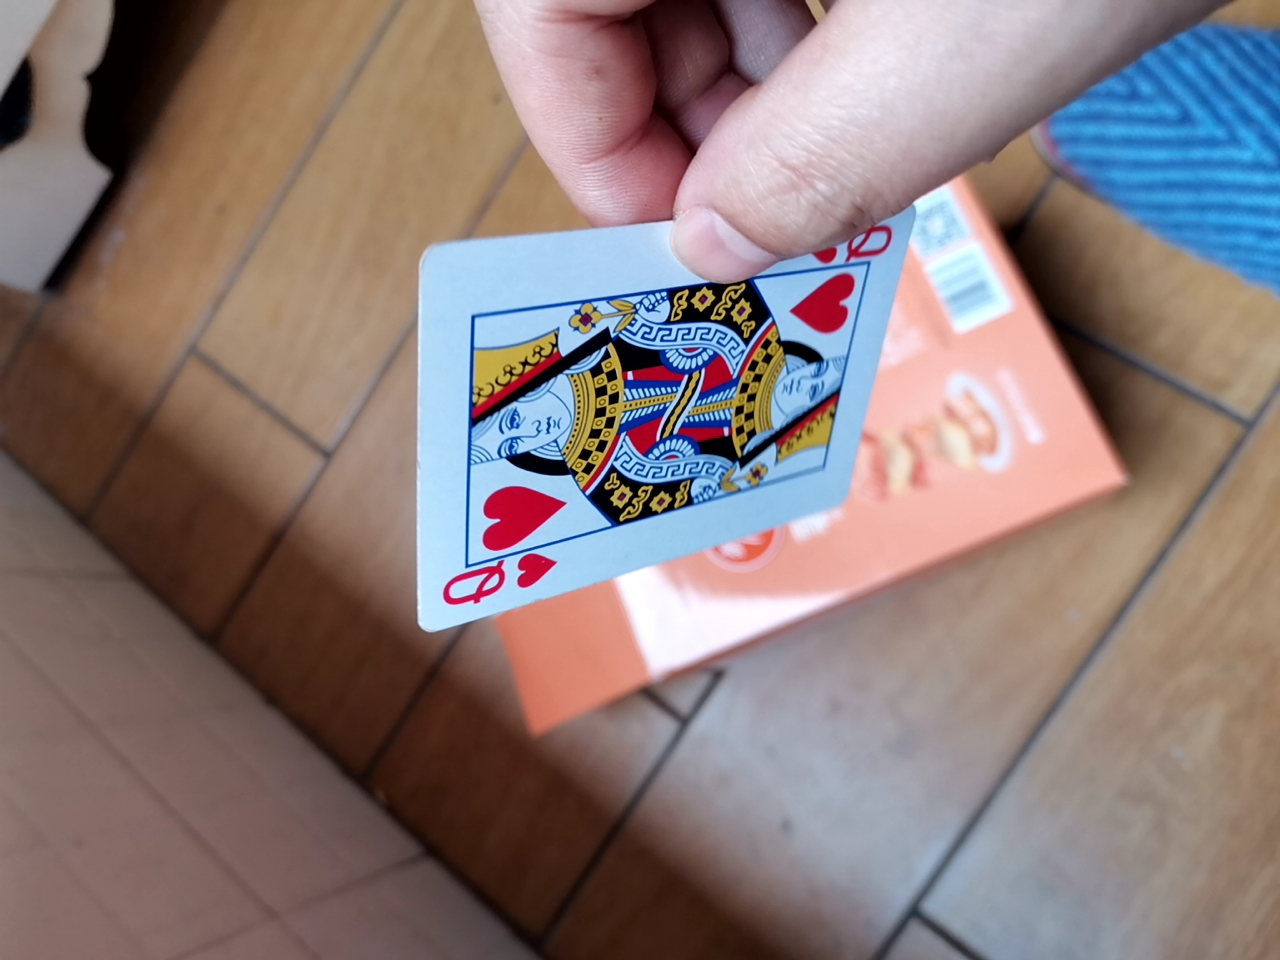hx q: (388, 198, 983, 685)
